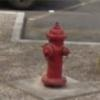a fire hydrant: (42, 22, 71, 88)
